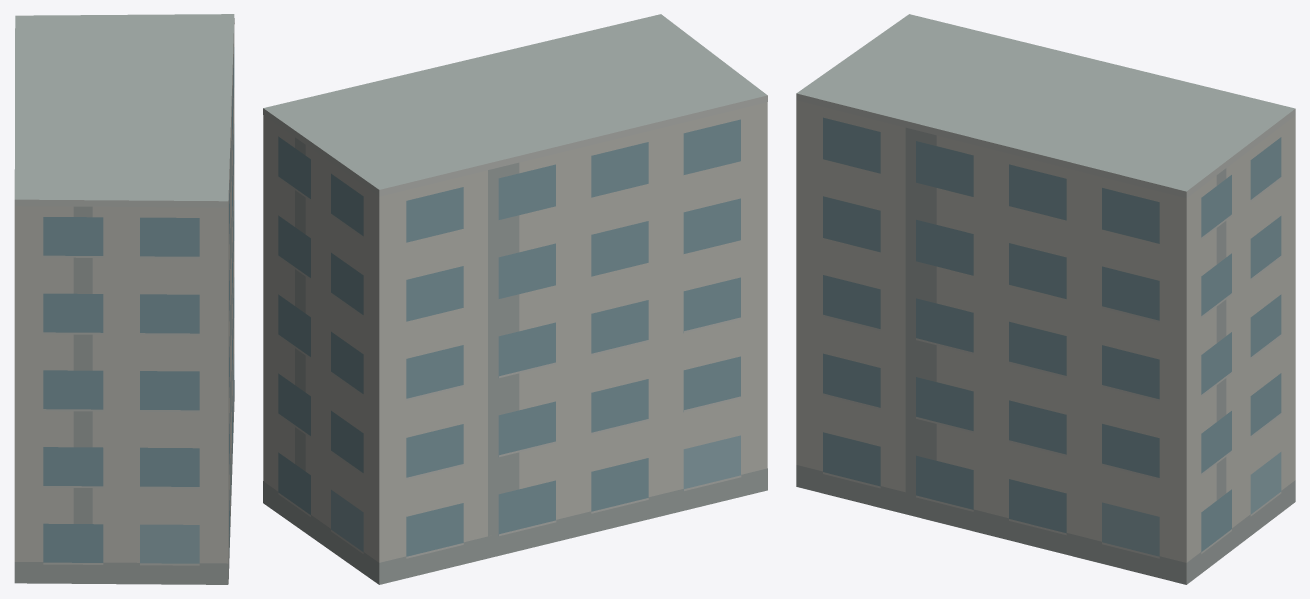
Rendered from survey-upis-33044120.glb.
The picture shows the model from 3 angles, left to right: view 1: azimuth 30°, elevation 25°; view 2: azimuth 150°, elevation 25°; view 3: azimuth 270°, elevation 25°; orthographic projection. The views are drawn at different scales.
Visible parts, largest first — view 1: survey-upis-33044120.tmp; view 2: survey-upis-33044120.tmp; view 3: survey-upis-33044120.tmp.
Part boxes in pixels (box(x1,y1,x2,y2)): survey-upis-33044120.tmp: box(14, 14, 234, 584); survey-upis-33044120.tmp: box(263, 14, 767, 584); survey-upis-33044120.tmp: box(796, 14, 1295, 584).
Bounding box in the file's own units: 13.95 × 14.4 × 16.57.
